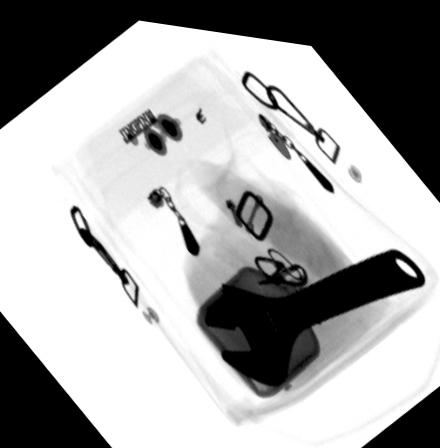Wrench: (199, 233, 425, 379)
